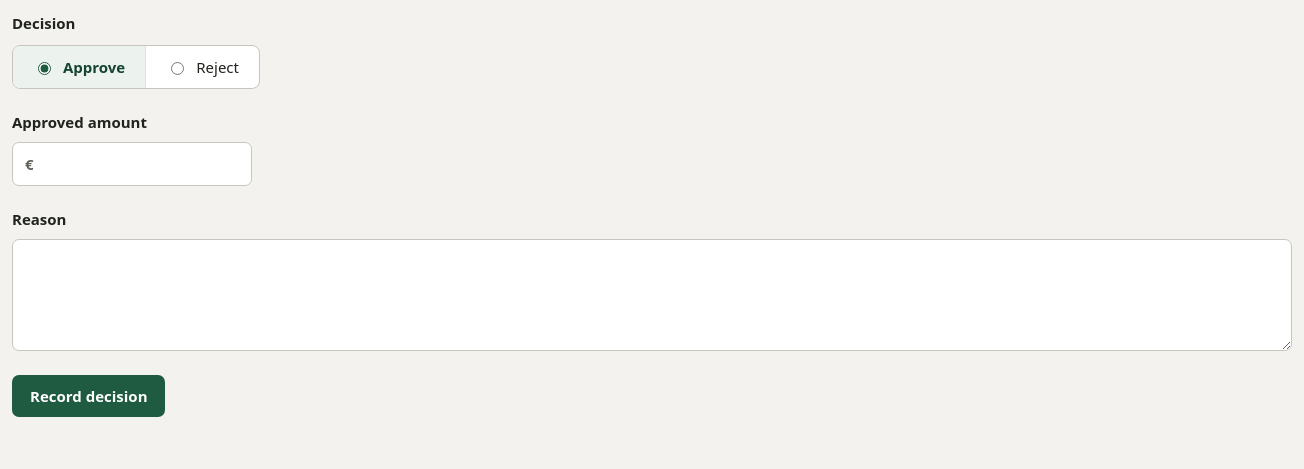
Test case: DecisionForm stale error clearing › shows a magnitude-specific message for absurdly large amounts
Type "99999999999999999999" into the field labelled "Approved amount €" at (142, 164), box [34,142,251,185]
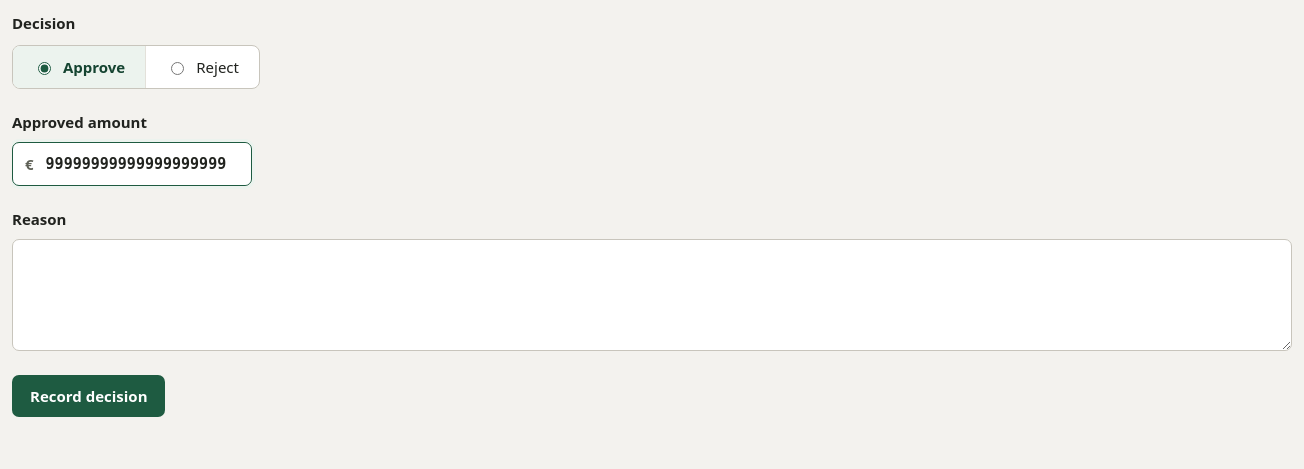
Type "Checked" into the text box labelled "Reason" at (652, 294), box [12,238,1292,350]
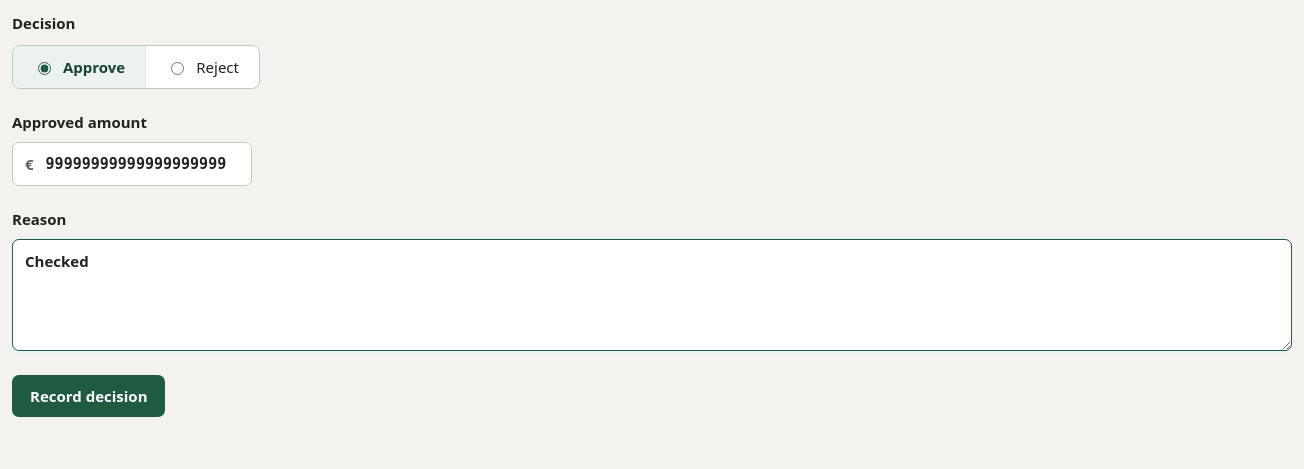
Click the button "Record decision" at (89, 396), box [12,374,166,417]
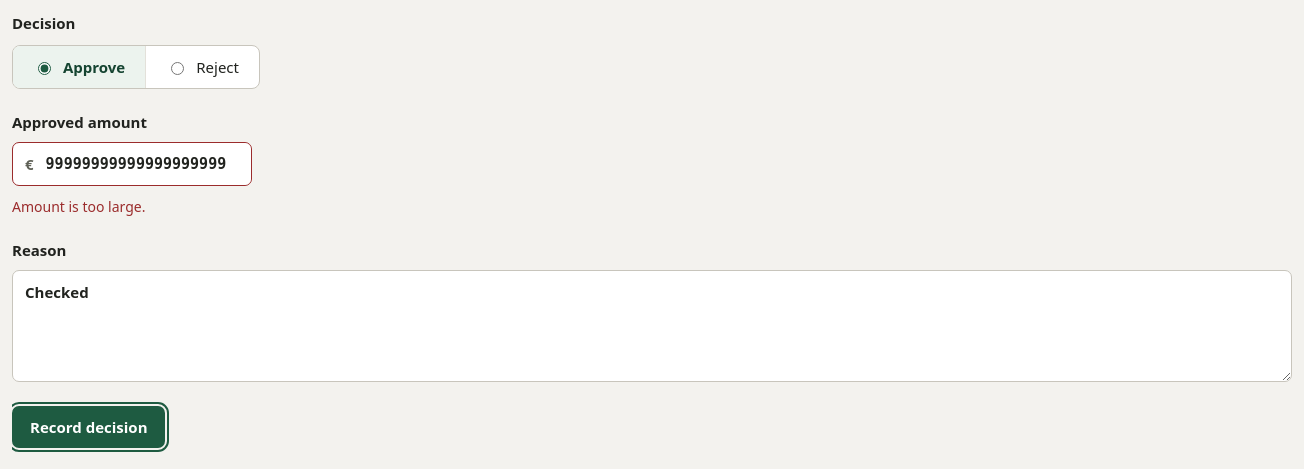
Check: the message reads "Amount is too large.", box [12,197,146,216]
